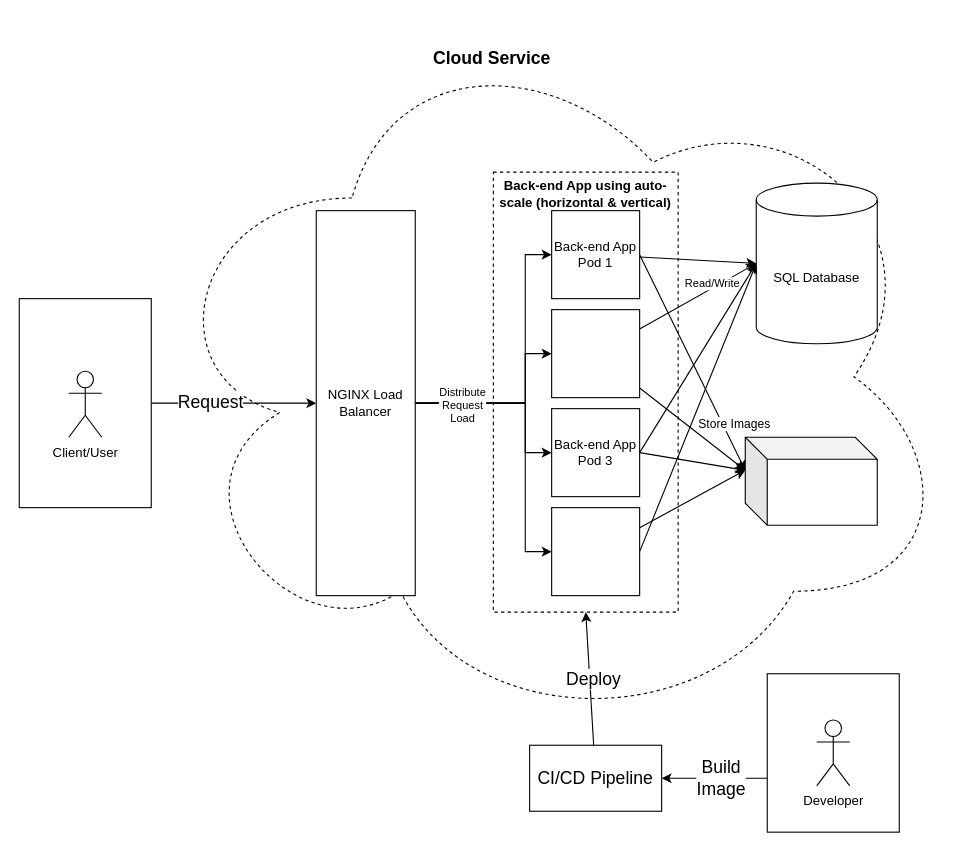
The diagram is 974 pixels wide and 851 high, and some of its shapes have lost their labels. Here are the shapes that lost their labels. From the top down, the box of each, then its label:
(551, 309, 640, 398): Back-end App Pod 2
(744, 436, 877, 525): Cloud Storage
(551, 507, 640, 596): Back-end App Pod 4
